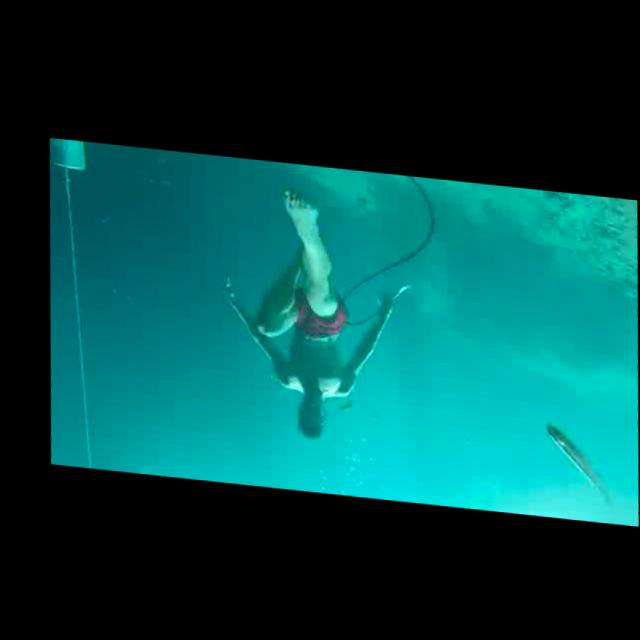human: (200, 172, 428, 452)
